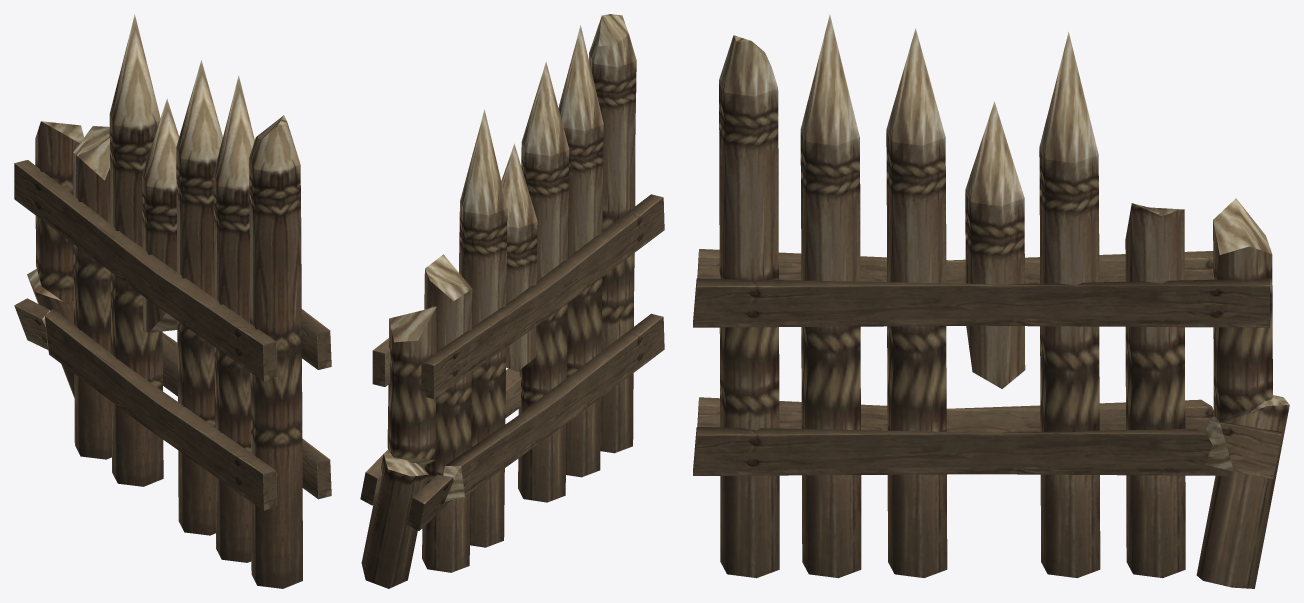
Rendered from 4008_Item_zhalan_2.FBX.
The picture shows the model from 3 angles, left to right: view 1: azimuth 30°, elevation 25°; view 2: azimuth 150°, elevation 25°; view 3: azimuth 270°, elevation 25°; orthographic projection. The views are drawn at different scales.
Visible parts, largest first — view 1: 4008_Item_zhalan_2; view 2: 4008_Item_zhalan_2; view 3: 4008_Item_zhalan_2.
Boxes of the visible parts, left/top/right/bottom form: 4008_Item_zhalan_2: left=14, top=14, right=331, bottom=588; 4008_Item_zhalan_2: left=360, top=14, right=664, bottom=588; 4008_Item_zhalan_2: left=693, top=14, right=1289, bottom=588.
Size of the model in its own units: 120 by 587 by 572.
